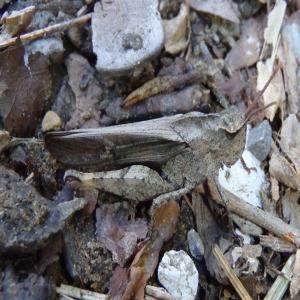locust: (45, 63, 276, 219)
